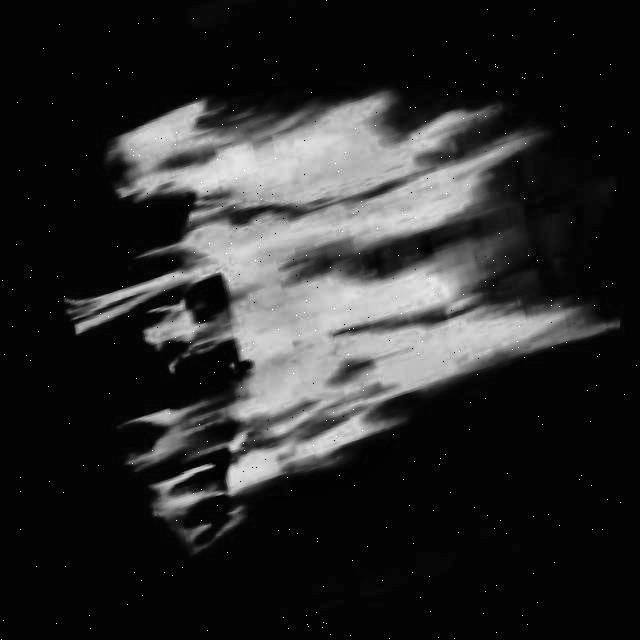Fire: (1, 0, 639, 607)
